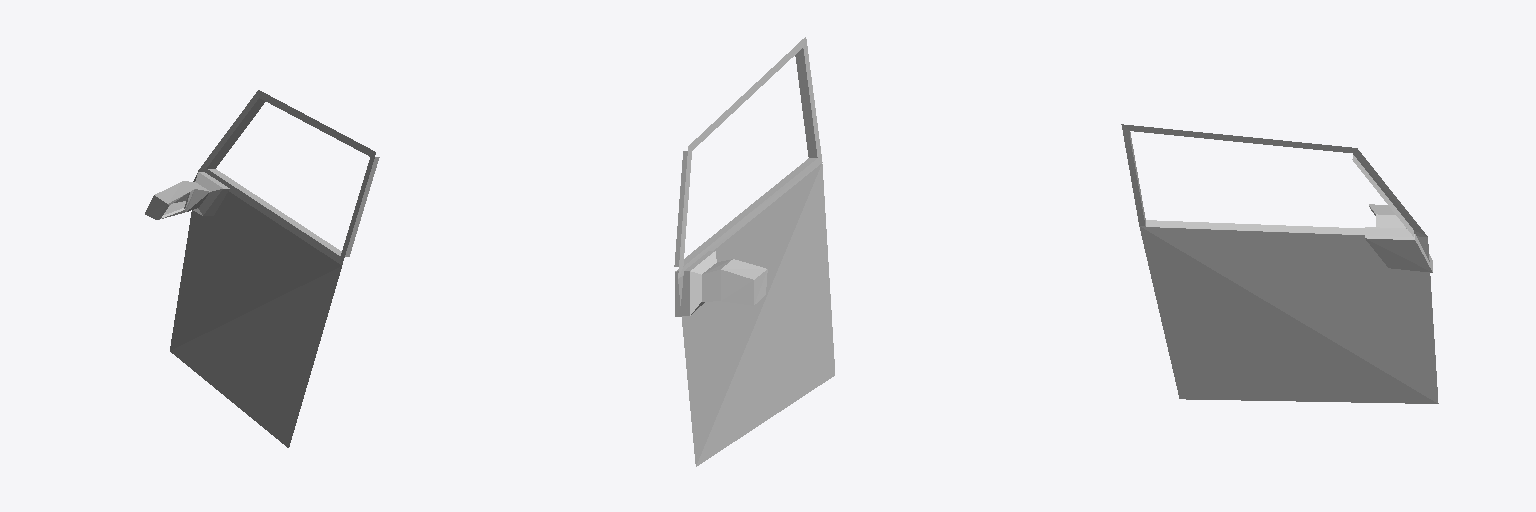
File: porta_frente_esquerda.obj
The picture shows the model from 3 angles: view 1: azimuth 30°, elevation 25°; view 2: azimuth 150°, elevation 25°; view 3: azimuth 270°, elevation 25°; orthographic projection.
Parts seen in each view (by area): view 1: Porta_frente_esquerda; view 2: Porta_frente_esquerda; view 3: Porta_frente_esquerda.
Part boxes in pixels (x1,y1,x2,y2): Porta_frente_esquerda: (145, 90, 379, 447); Porta_frente_esquerda: (674, 37, 834, 466); Porta_frente_esquerda: (1121, 124, 1438, 403).
Size of the model in its own units: 0.293 by 0.8739 by 0.8273.